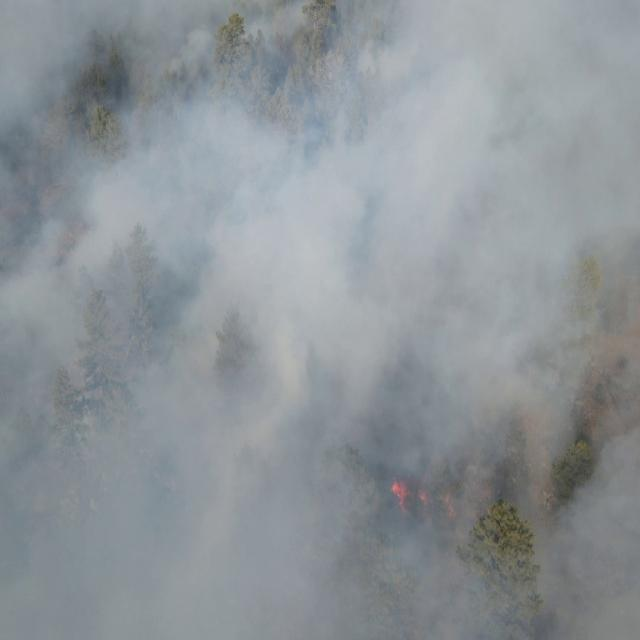fire: (389, 477, 412, 518), (440, 484, 456, 520), (414, 484, 428, 504)
smoke: (0, 0, 640, 640)
